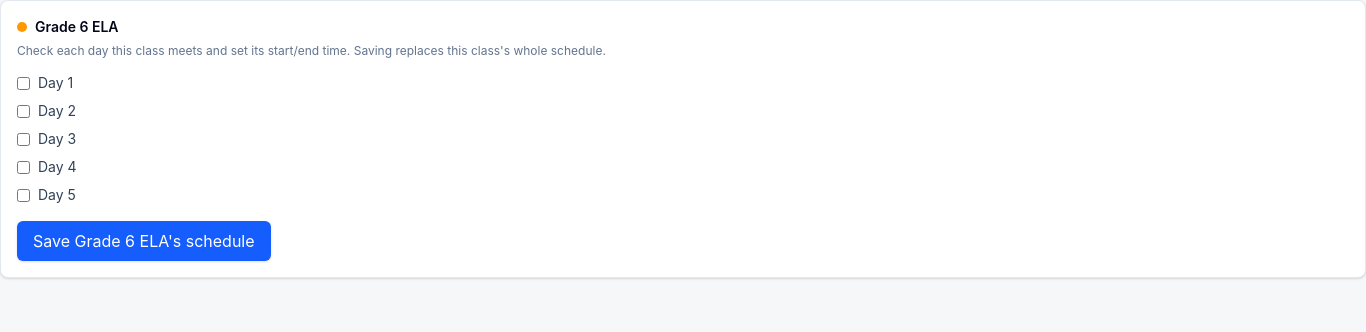
Test: ClassScheduleEditor › copies a day's time to other checked days, leaving unchecked days alone
Click the checkbox labelled "Day 1".
click(24, 83)  # box [17,76,30,90]
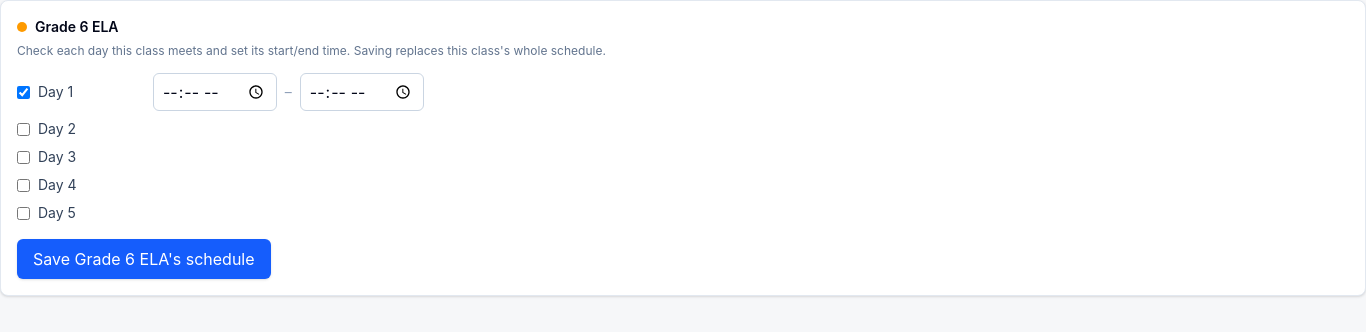
Click the checkbox labelled "Day 2".
click(24, 129)  # box [17,122,30,136]
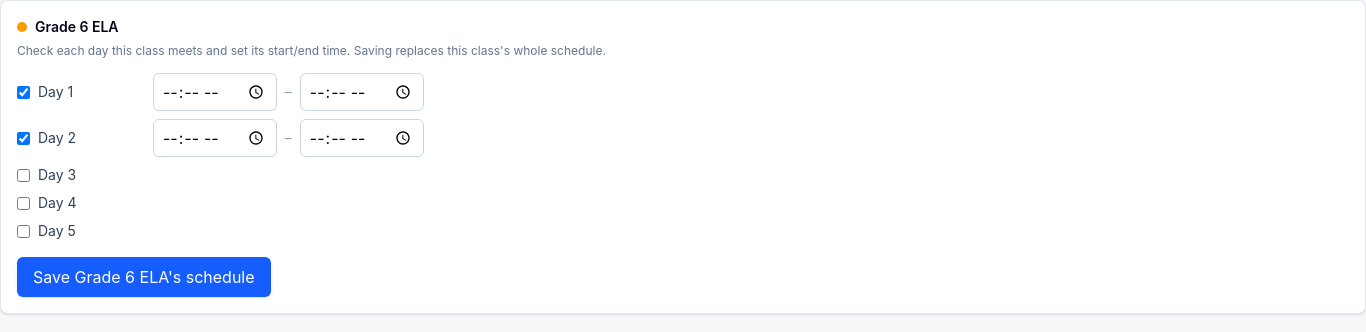
Type "08:00" into the 1st time field.
click(215, 92); type("08:00")  # box [153,73,277,111]
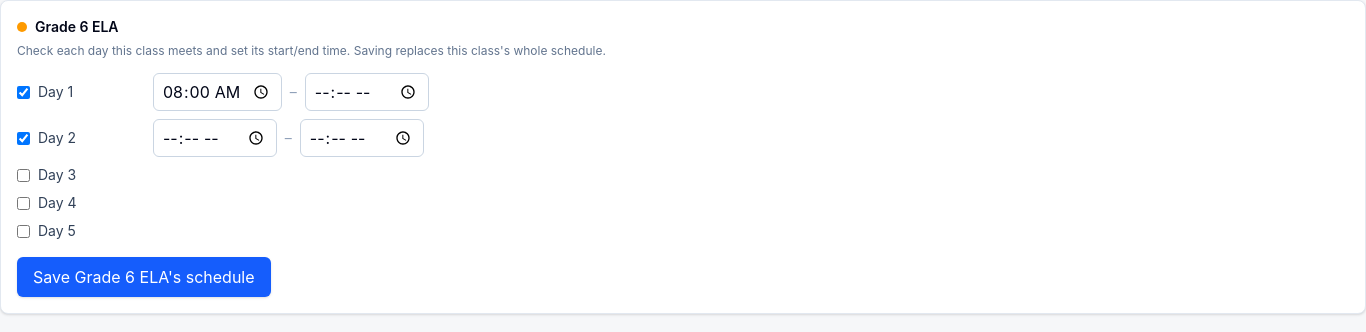
Type "08:50" into the 2nd time field.
click(367, 92); type("08:50")  # box [305,73,429,111]
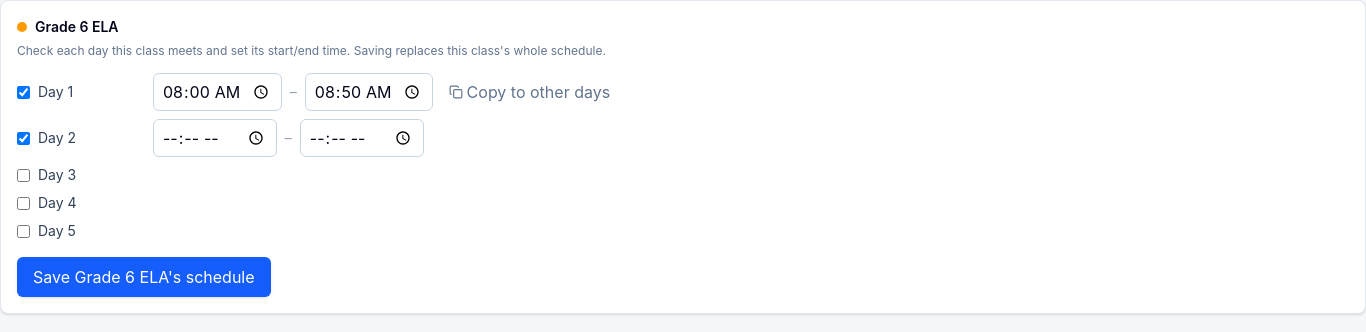
expect the 3rd time field is empty: met, box [153,119,277,157]
expect the 4th time field is empty: met, box [300,119,424,157]
Click the button "Copy to other days".
click(529, 92)  # box [441,74,618,110]
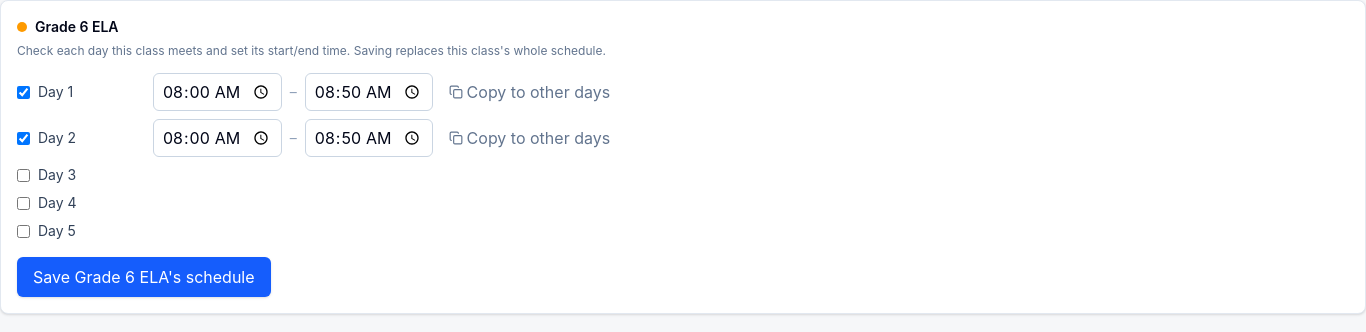
expect the 3rd time field holds "08:00": met, box [153,119,282,157]
expect the 4th time field holds "08:50": met, box [305,119,433,157]
